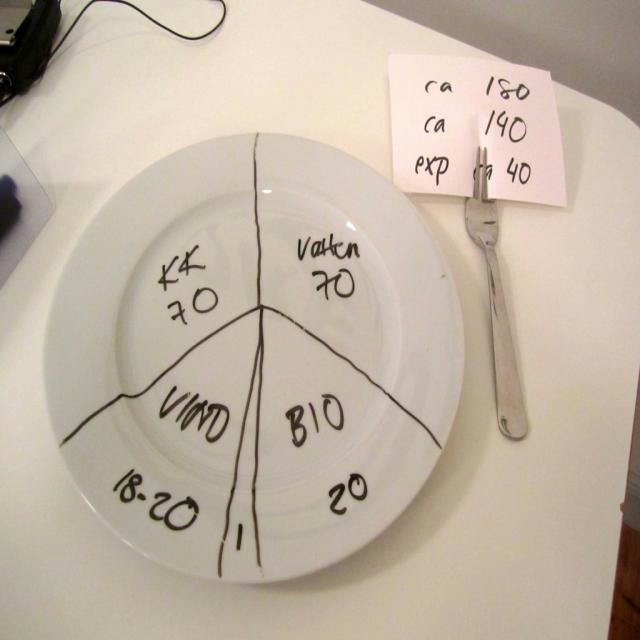non-organic waste: (31, 108, 483, 595)
